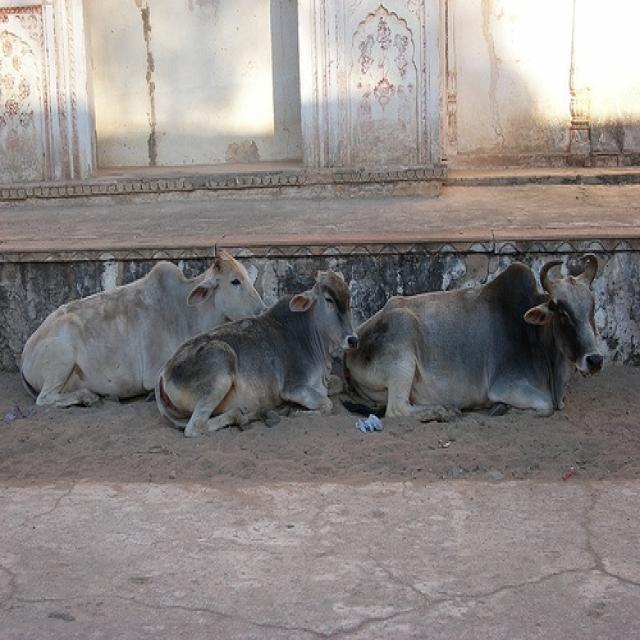cow: (342, 250, 616, 429), (16, 248, 268, 409), (151, 263, 358, 440)
